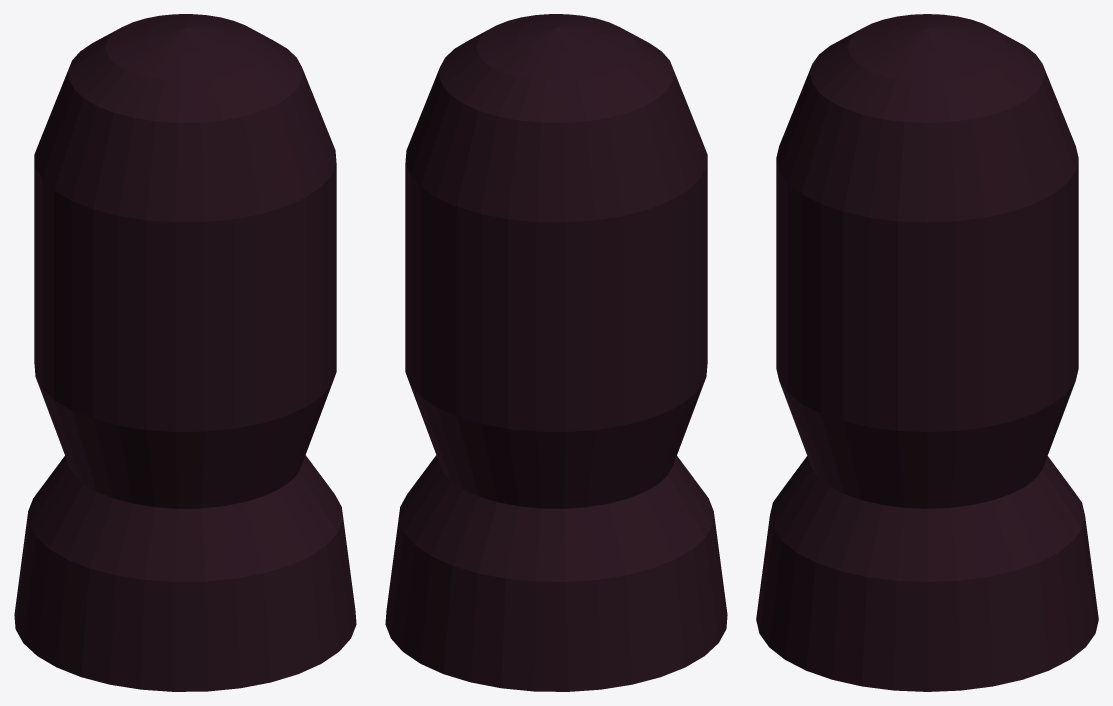
Rendered from Cannon_model.fbx.
3 views of the same model, side by side, from view 1: azimuth 30°, elevation 25°; view 2: azimuth 150°, elevation 25°; view 3: azimuth 270°, elevation 25° (orthographic).
Visible parts, largest first — view 1: Cylinder; view 2: Cylinder; view 3: Cylinder.
Part boxes in pixels (x1,y1,x2,y2): Cylinder: (14,14,356,691); Cylinder: (385,14,727,691); Cylinder: (756,14,1098,691).
Size of the model in its own units: 2.27 by 4.37 by 2.27.
